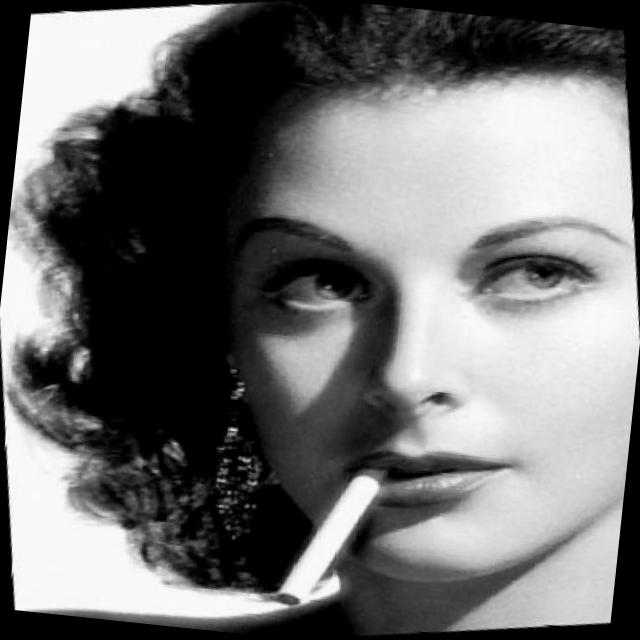cigarette: (256, 452, 423, 627)
